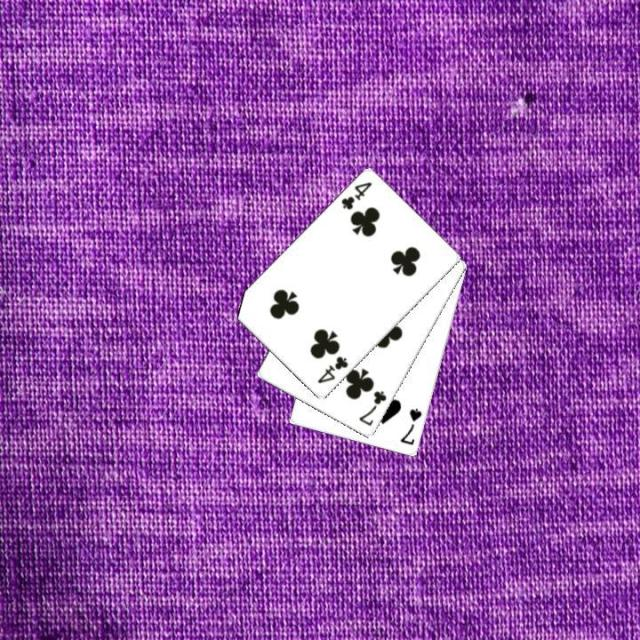4C: (337, 178, 374, 212), (314, 352, 350, 386)
7C: (354, 386, 388, 428)
7S: (396, 405, 424, 447)
